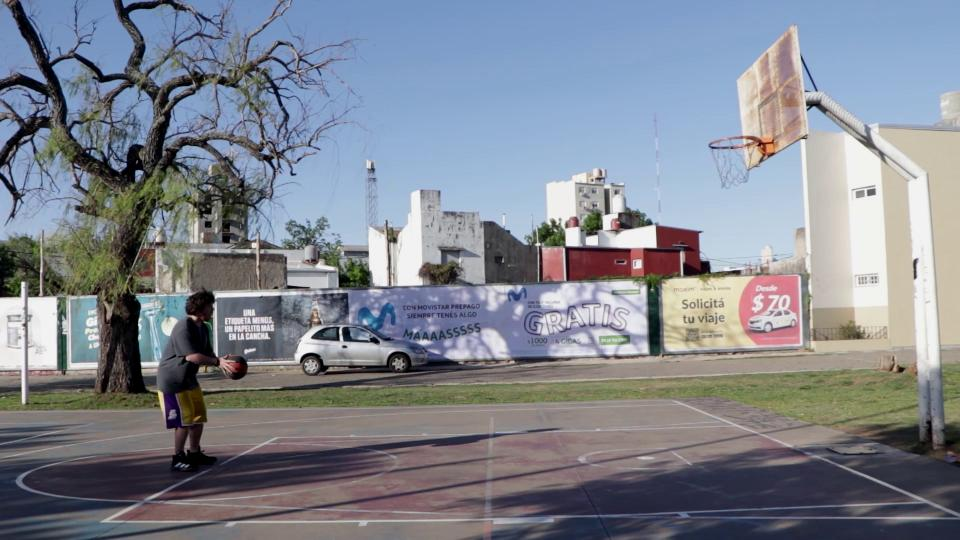hoop: (704, 136, 774, 157)
